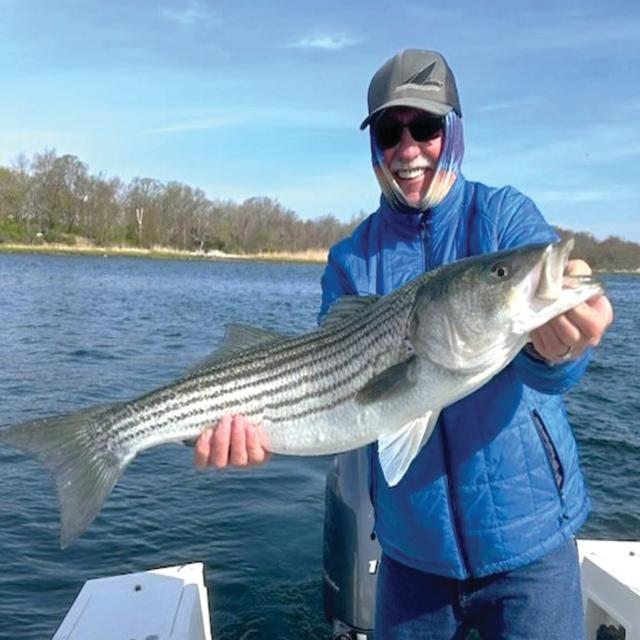Bass - Striped: (0, 238, 602, 547)
